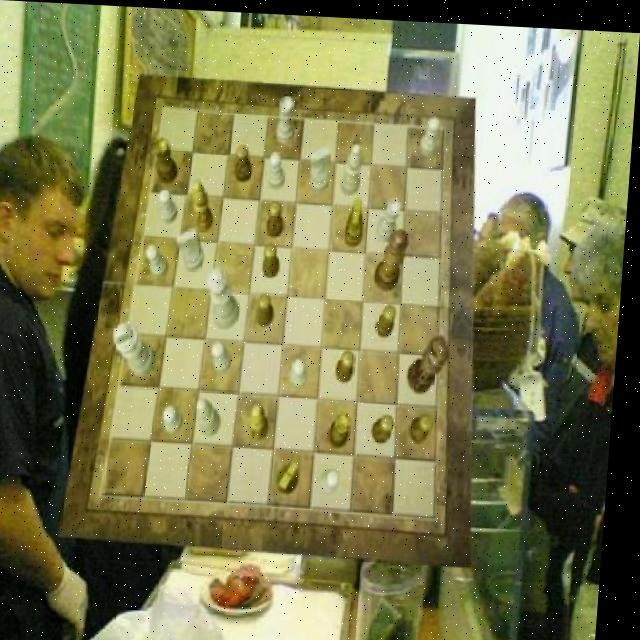bishop: (193, 178, 219, 231), (254, 401, 277, 439)
black-bishop: (412, 330, 456, 390)
black-king: (347, 195, 369, 244), (283, 457, 307, 492)
black-knight: (380, 299, 401, 334), (377, 410, 401, 439), (416, 410, 440, 439), (238, 143, 257, 179), (266, 240, 285, 275), (270, 199, 289, 234), (341, 347, 360, 380), (261, 291, 280, 324)
black-pawn: (378, 224, 414, 289)
black-queen: (156, 136, 183, 183), (333, 407, 358, 445)
black-rook: (342, 139, 364, 192), (202, 395, 228, 434)
white-bishop: (117, 319, 164, 376)
white-king: (179, 226, 210, 270), (311, 144, 334, 190)
white-knight: (420, 111, 442, 152), (149, 244, 174, 279), (162, 186, 184, 221), (216, 339, 239, 372), (270, 149, 289, 187), (169, 405, 191, 433), (296, 354, 315, 386), (326, 465, 348, 491)
white-pawn: (209, 265, 248, 327)
white-queen: (380, 194, 405, 239), (277, 93, 297, 142)
